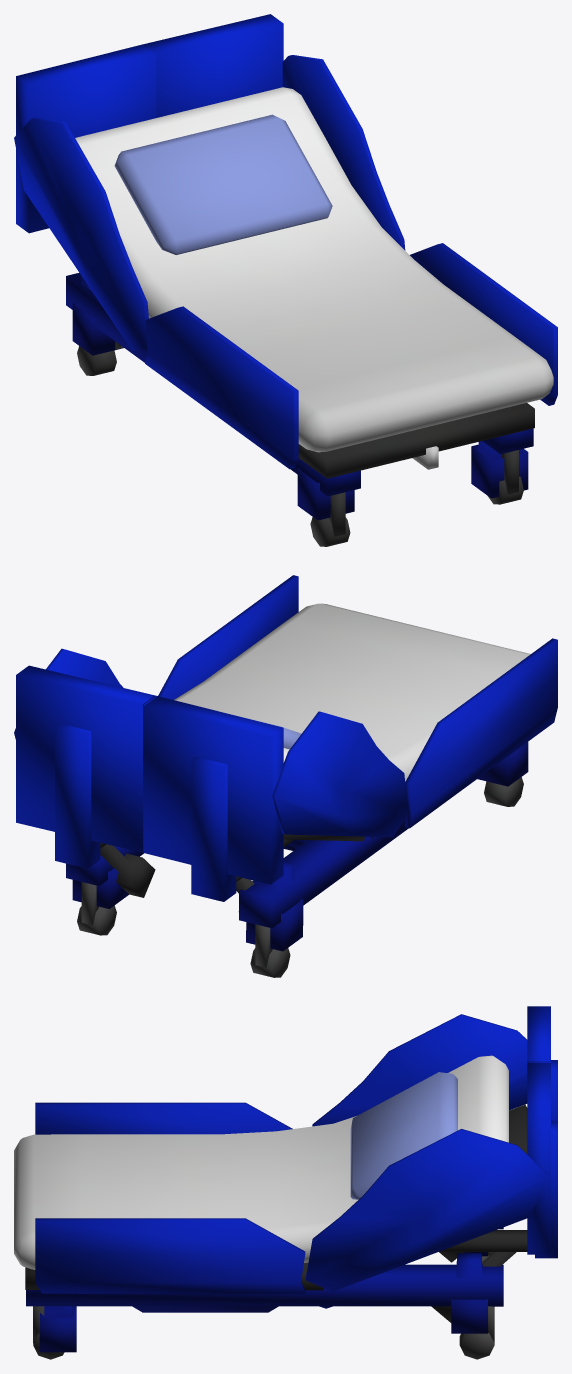
The model's file is MacaHospitalar.fbx.
3 views of the same model, one above another, from view 1: azimuth 30°, elevation 25°; view 2: azimuth 150°, elevation 25°; view 3: azimuth 270°, elevation 25° (orthographic). The views are drawn at different scales.
Parts seen in each view (by area): view 1: MacaHospitalar; view 2: MacaHospitalar; view 3: MacaHospitalar.
Boxes of the visible parts, bbox=[...] form: MacaHospitalar: bbox=[14, 14, 557, 546]; MacaHospitalar: bbox=[14, 575, 557, 977]; MacaHospitalar: bbox=[14, 1006, 557, 1359].
Bounding box in the file's own units: 108 × 108 × 210.
Materials: 1 (1 with a texture image).
